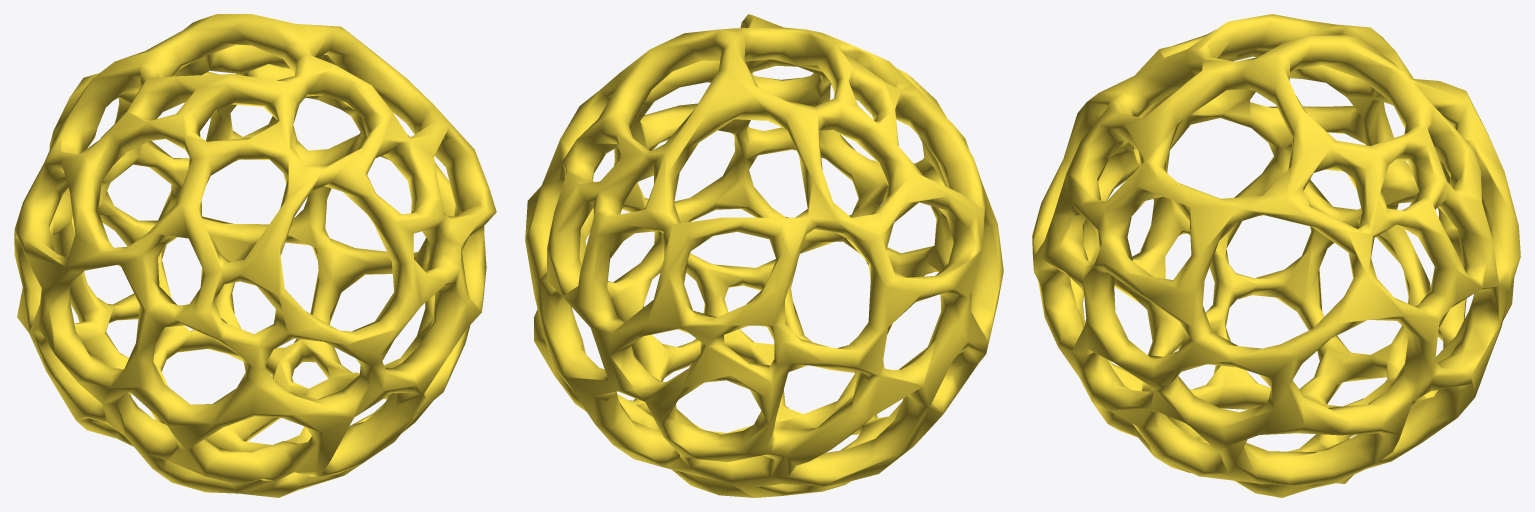
Rendered from Figure 3.fbx.
The picture shows the model from 3 angles, left to right: view 1: azimuth 30°, elevation 25°; view 2: azimuth 150°, elevation 25°; view 3: azimuth 270°, elevation 25°; orthographic projection.
Parts seen in each view (by area): view 1: figure 3; view 2: figure 3; view 3: figure 3.
Part boxes in pixels (left/top/right/bottom): figure 3: left=14, top=14, right=496, bottom=497; figure 3: left=525, top=14, right=1003, bottom=497; figure 3: left=1032, top=14, right=1520, bottom=497.
Size of the model in its own units: 38.07 by 38.59 by 37.72.
Materials: 1 (1 with a texture image).
